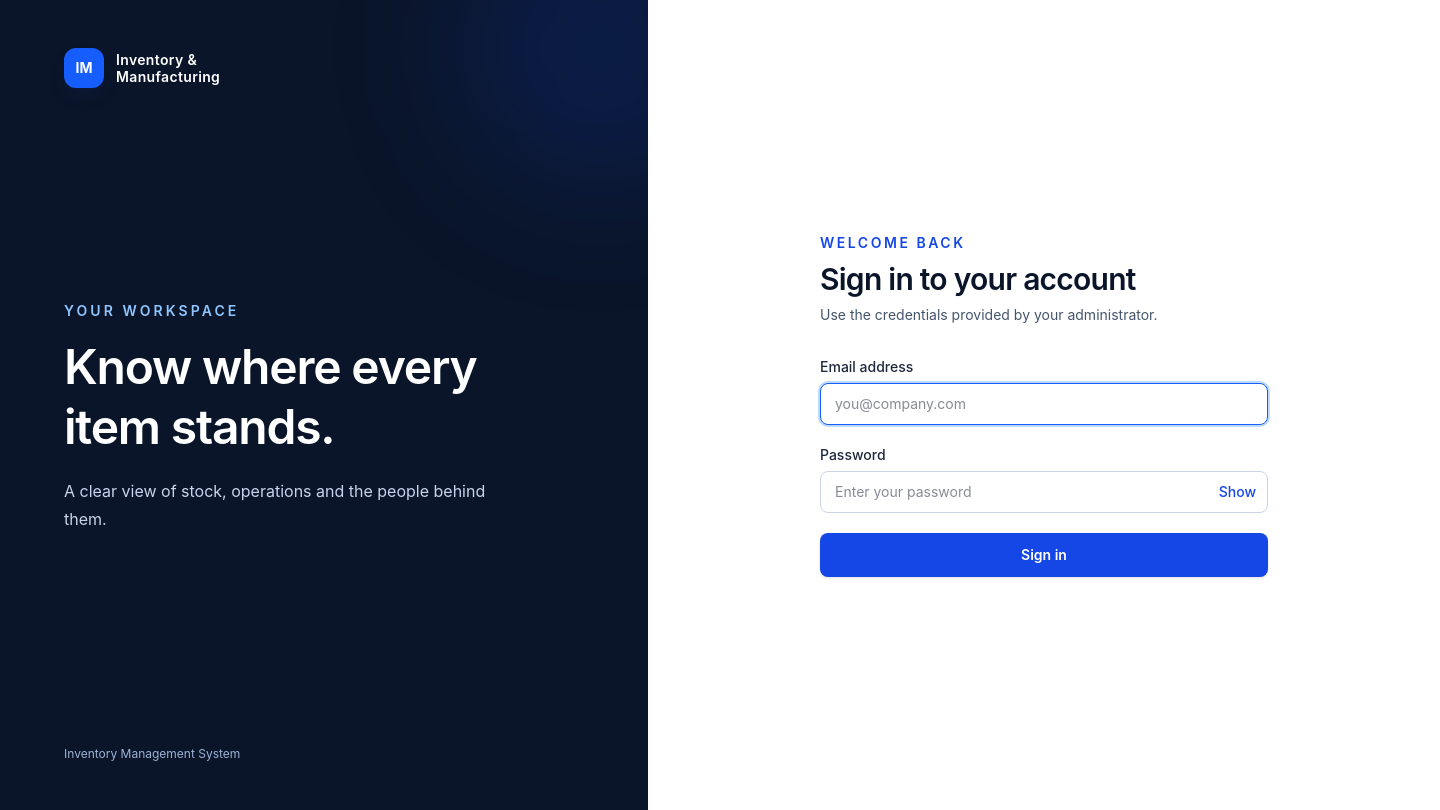
Test: frontend authentication › logs in, fetches /auth/me and returns to the protected page
Expected: the heading "Sign in to your account" is shown, [820, 261, 1136, 297]
Type "Admin@Example.com" into the field labelled "Email address" at point(1044, 404), box [820, 383, 1268, 425]
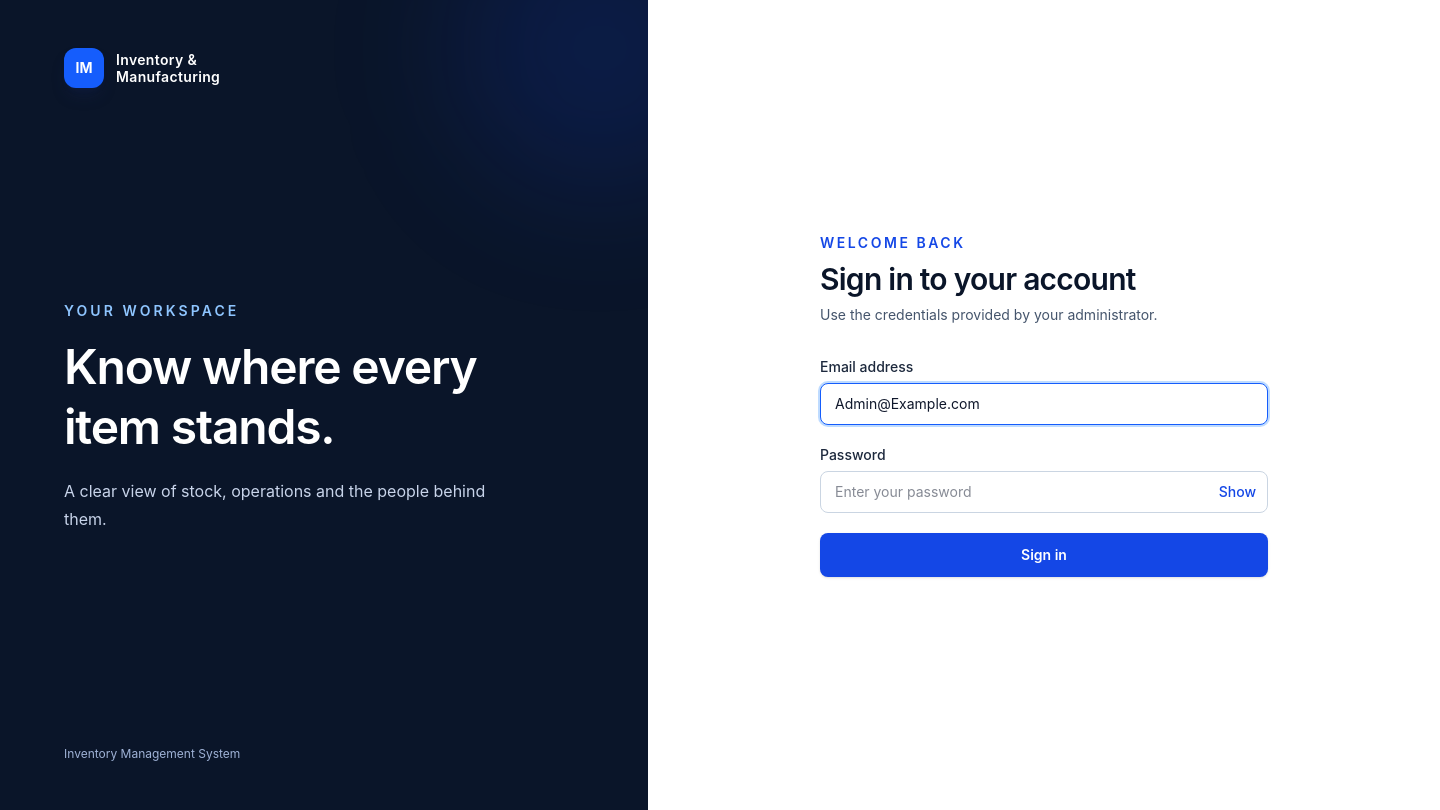
Type "correct-password" into the password field labelled "Password" at point(1044, 492), box [820, 471, 1268, 513]
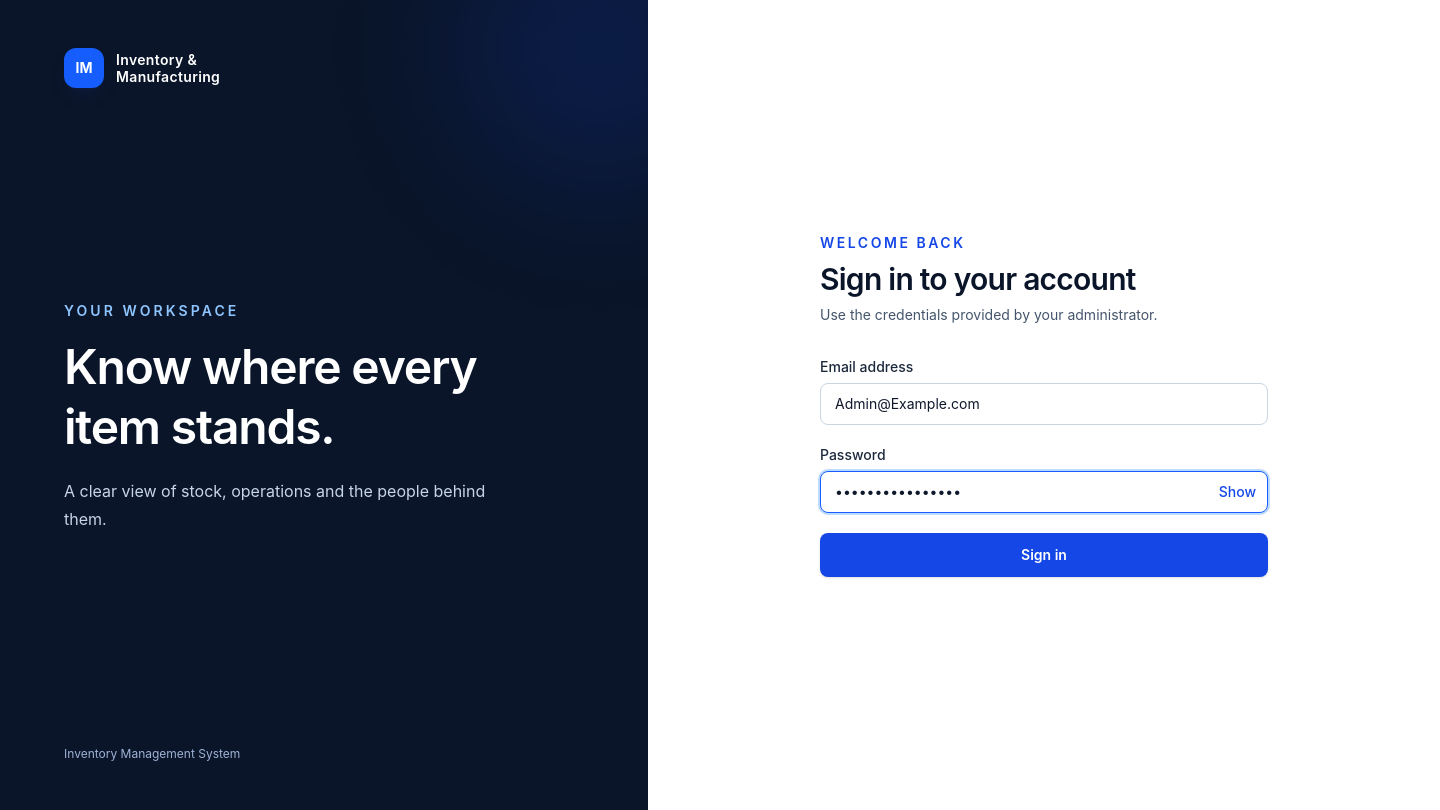
Click the button "Sign in" at point(1044, 555), box [820, 533, 1268, 577]
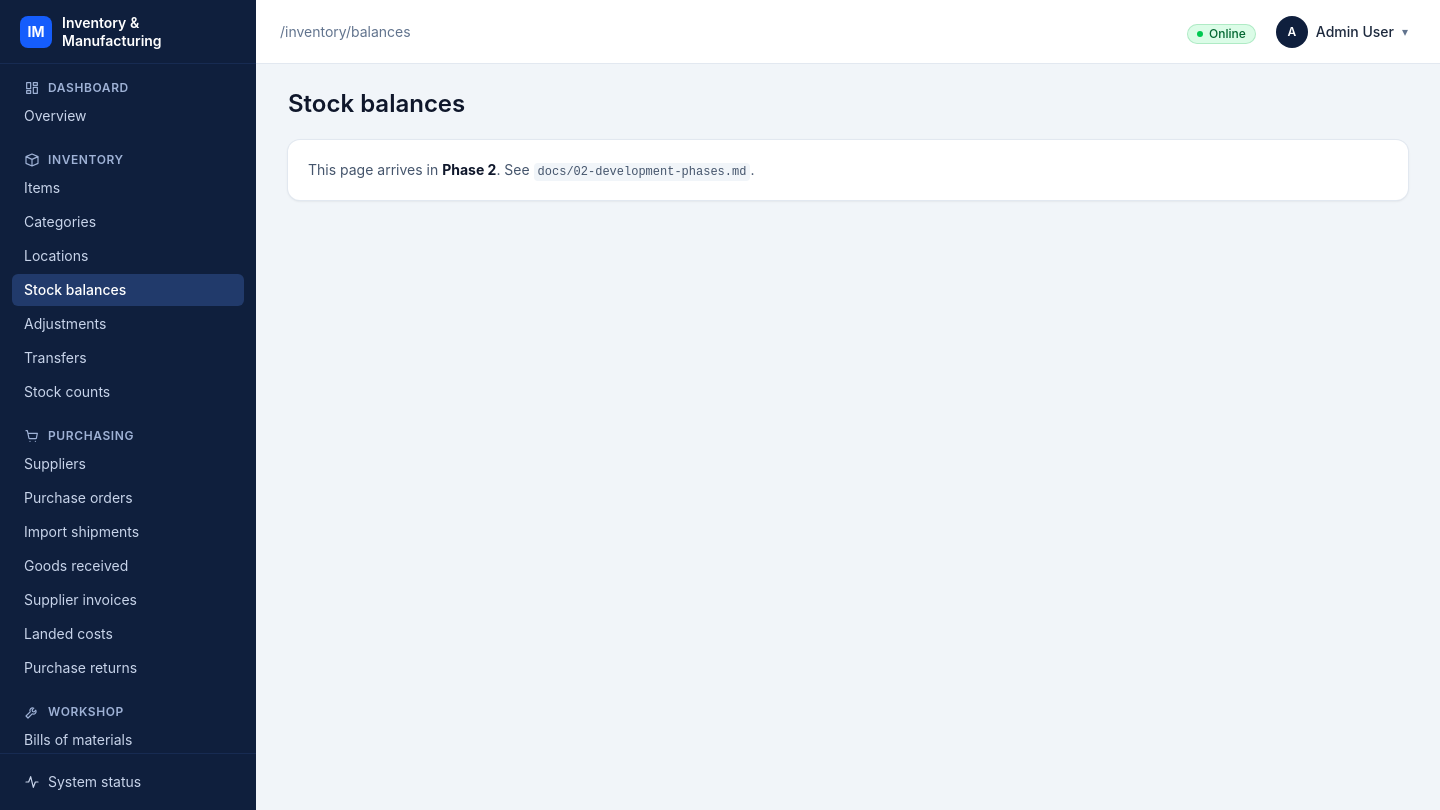
Now the heading "Stock balances" is shown, box [288, 89, 465, 118]
Now the button with aria-label "Profile menu for Admin User" is shown, box [1268, 10, 1416, 54]
